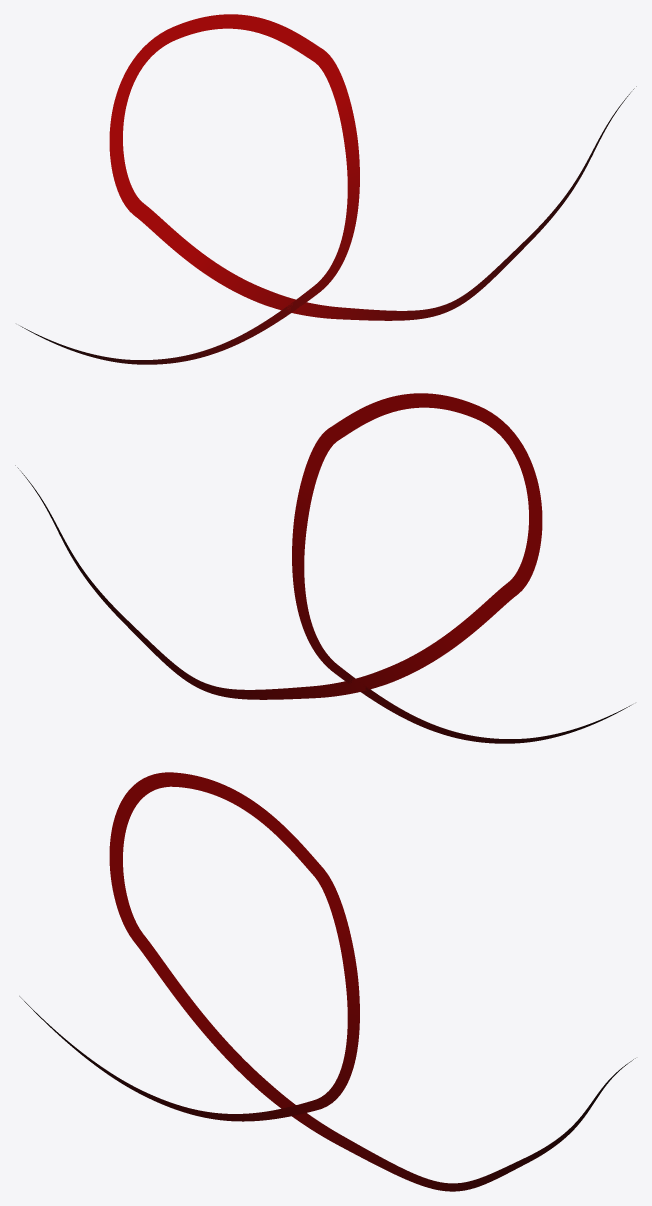
Rendered from SM_Trail002.fbx.
The picture shows the model from 3 angles, top to bottom: view 1: azimuth 30°, elevation 25°; view 2: azimuth 150°, elevation 25°; view 3: azimuth 330°, elevation 25°; orthographic projection.
Visible parts, largest first — view 1: transform1; view 2: transform1; view 3: transform1.
Part boxes in pixels (x1,y1,x2,y2): transform1: (19, 14, 636, 364); transform1: (15, 393, 632, 743); transform1: (19, 772, 635, 1191).
Bounding box in the file's own units: 232 × 127 × 4.89e-05.
